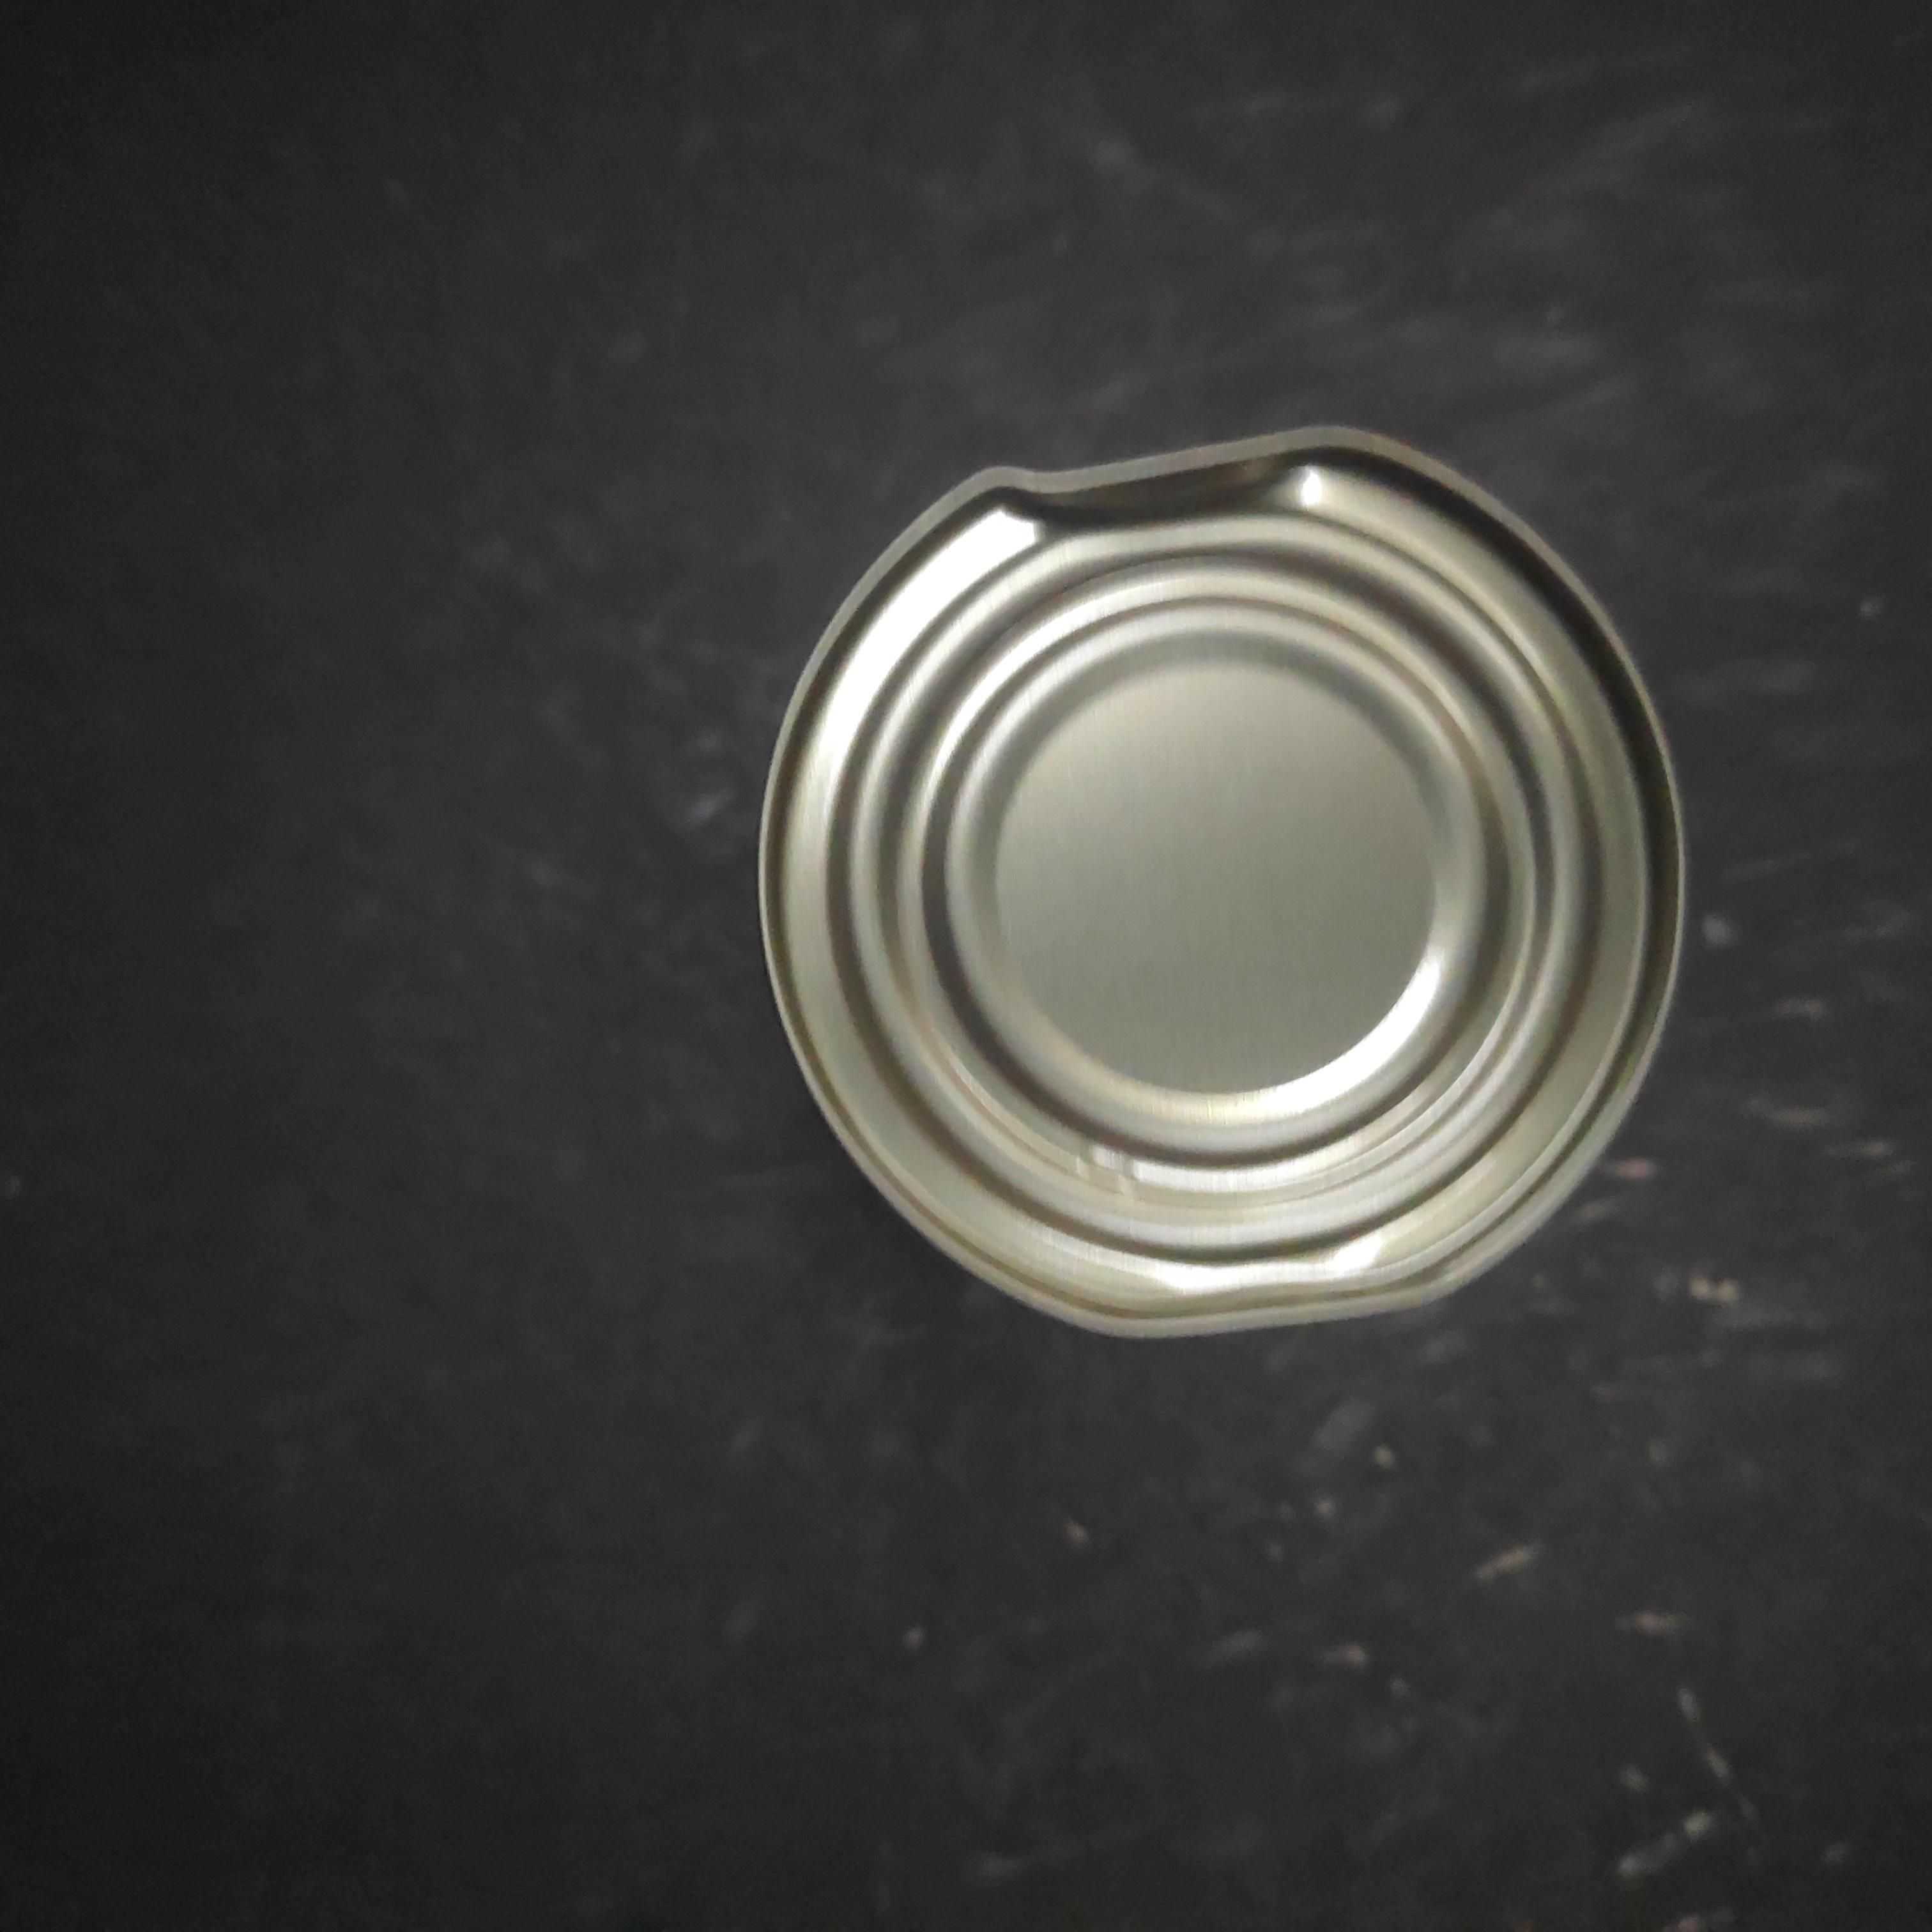Minor Defect: (218, 575, 1192, 1527)
